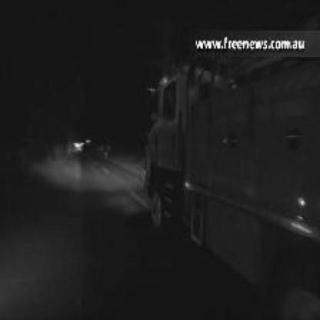other: (293, 193, 309, 240), (152, 68, 170, 86), (182, 177, 196, 197)
